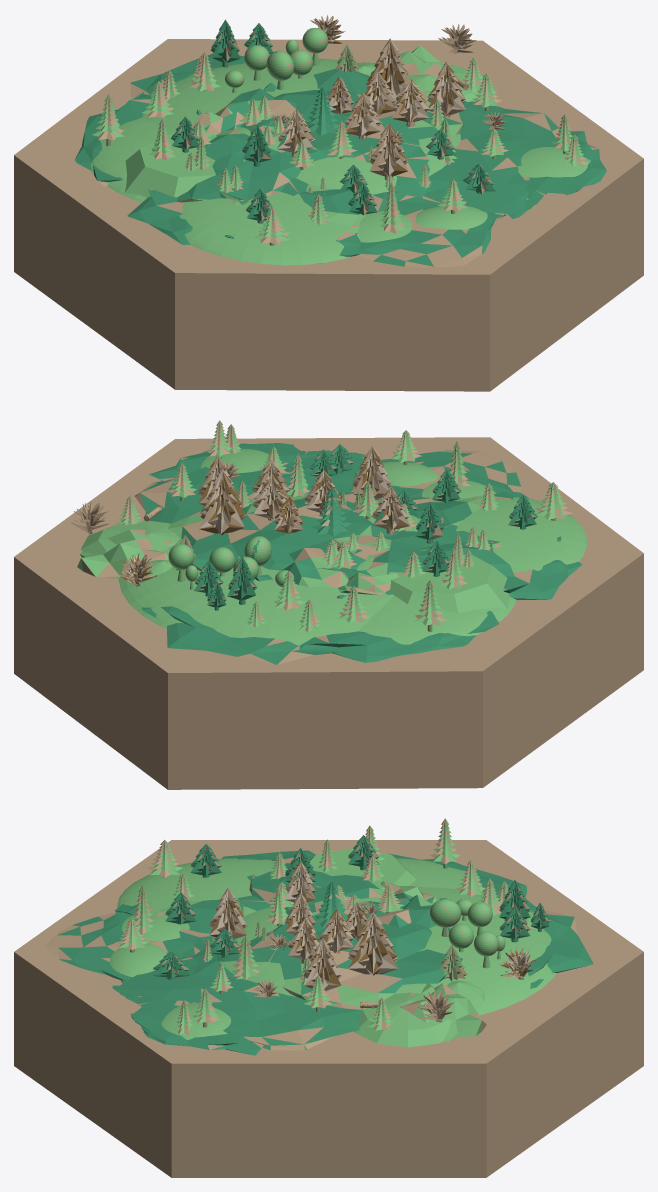
File: wood.glb
The picture shows the model from 3 angles, top to bottom: view 1: azimuth 30°, elevation 25°; view 2: azimuth 150°, elevation 25°; view 3: azimuth 270°, elevation 25°; orthographic projection. The views are drawn at different scales.
Visible parts, largest first — view 1: Mesh_Mesh_head_geo.001_lambert2SG.001; view 2: Mesh_Mesh_head_geo.001_lambert2SG.001; view 3: Mesh_Mesh_head_geo.001_lambert2SG.001.
Boxes of the visible parts, x1,y1,x2,y2 form: Mesh_Mesh_head_geo.001_lambert2SG.001: (14, 15, 643, 391); Mesh_Mesh_head_geo.001_lambert2SG.001: (14, 420, 643, 789); Mesh_Mesh_head_geo.001_lambert2SG.001: (14, 818, 643, 1177).
Size of the model in its own units: 84 by 34 by 100.
